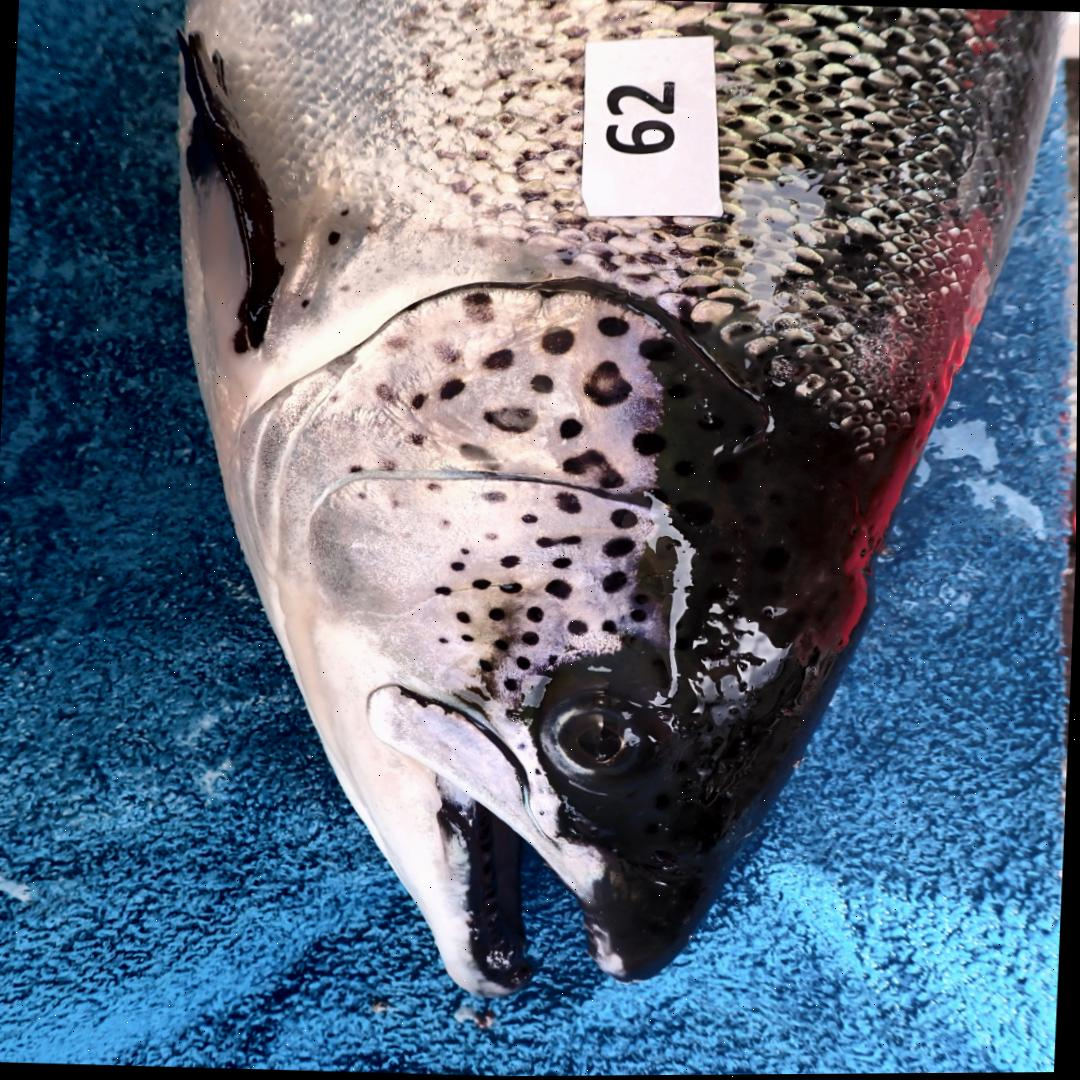spot: (562, 448, 627, 489), (584, 361, 632, 406), (484, 407, 537, 433), (462, 291, 493, 323), (541, 327, 574, 354), (633, 431, 665, 456), (640, 338, 676, 360), (482, 349, 513, 370), (603, 538, 635, 558), (598, 317, 629, 337), (459, 443, 495, 460), (555, 491, 581, 513), (603, 571, 628, 593), (537, 535, 582, 547), (435, 341, 459, 363), (611, 509, 638, 528), (546, 579, 572, 598), (560, 418, 583, 439), (441, 379, 465, 399), (530, 374, 553, 393), (376, 382, 396, 402), (385, 337, 408, 350), (568, 620, 589, 634), (480, 491, 506, 502), (527, 606, 543, 622), (408, 433, 427, 446), (501, 555, 520, 568), (489, 607, 506, 621), (411, 393, 426, 408), (522, 632, 539, 645), (502, 582, 522, 593), (479, 658, 494, 672), (553, 557, 572, 568), (631, 609, 647, 622), (602, 620, 618, 633), (517, 656, 531, 670), (472, 579, 491, 589), (505, 678, 519, 691), (633, 594, 649, 605), (493, 639, 508, 650), (457, 611, 470, 623), (522, 514, 538, 523), (436, 586, 452, 595), (380, 459, 394, 469), (427, 482, 441, 491), (548, 654, 558, 666), (349, 464, 362, 473), (451, 562, 465, 570), (565, 644, 579, 652), (439, 519, 451, 528), (485, 533, 498, 540), (462, 634, 474, 641), (438, 637, 448, 643), (357, 492, 366, 498), (460, 548, 469, 554), (576, 652, 582, 656), (565, 645, 569, 648)
